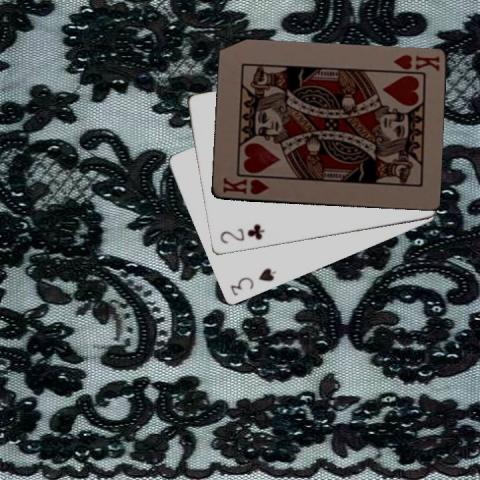2c: (217, 222, 265, 246)
3s: (227, 265, 277, 298)
Kh: (219, 175, 271, 196), (389, 52, 441, 72)
